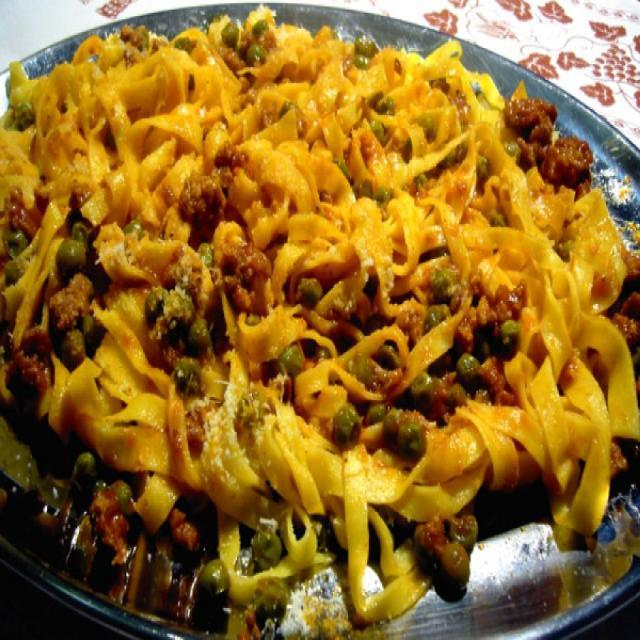Pasta al ragu: (5, 30, 625, 591)
